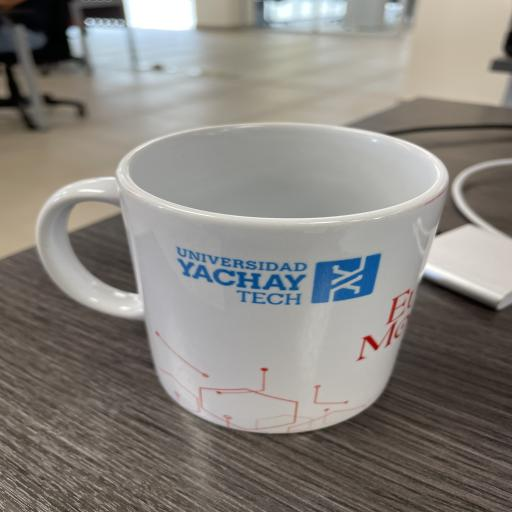cup: (34, 123, 458, 434)
